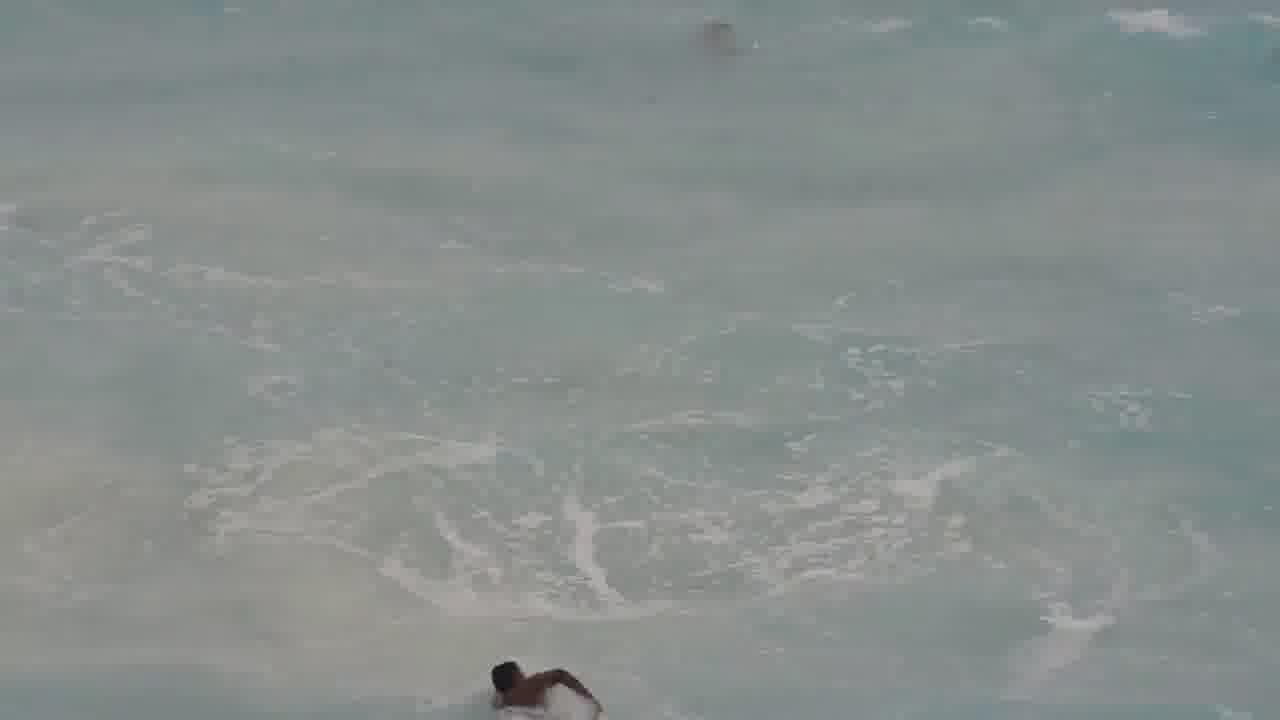swimmer: (476, 651, 584, 720), (695, 19, 746, 66)
